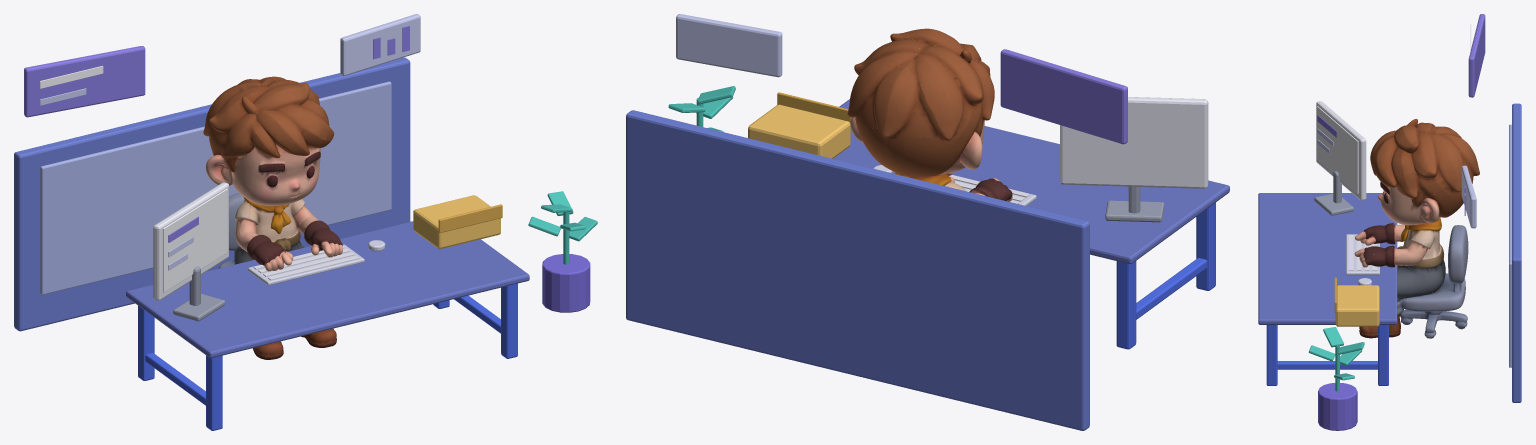
Rendered from desk-scene.glb.
3 renders of one model, left to right at view 1: azimuth 30°, elevation 25°; view 2: azimuth 150°, elevation 25°; view 3: azimuth 270°, elevation 25°, orthographic. The views are drawn at different scales.
Parts seen in each view (by area): view 1: panel_in, desk_top, toy_desk, panel, card_a, mon_screen, card_b, tray, pot, mon_body, desk_leg_-1_-1, desk_leg_1_-1 (+7 smaller); view 2: panel, toy_desk, desk_top, mon_body, card_a, card_b, tray, desk_leg_-1_1, desk_leg_-1_-1, desk_rail_-1, mon_base, tray_lip; view 3: toy_desk, desk_top, panel, mon_screen, tray, pot, mon_body, card_a, desk_rail_1, panel_in, desk_leg_1_-1, card_b (+4 smaller).
Part boxes in pixels (left/top/right/bottom): panel_in: left=40, top=81, right=391, bottom=294; desk_top: left=126, top=221, right=529, bottom=358; toy_desk: left=203, top=76, right=342, bottom=359; panel: left=14, top=57, right=410, bottom=331; card_a: left=24, top=46, right=145, bottom=117; mon_screen: left=163, top=188, right=227, bottom=292; card_b: left=340, top=14, right=420, bottom=75; tray: left=413, top=195, right=500, bottom=248; pot: left=542, top=254, right=590, bottom=312; mon_body: left=153, top=182, right=228, bottom=300; desk_leg_-1_-1: left=206, top=355, right=222, bottom=430; desk_leg_1_-1: left=501, top=283, right=517, bottom=358; panel: left=626, top=110, right=1089, bottom=430; toy_desk: left=847, top=28, right=1012, bottom=201; desk_top: left=833, top=99, right=1229, bottom=264; mon_body: left=1060, top=97, right=1208, bottom=188; card_a: left=1000, top=49, right=1127, bottom=144; card_b: left=676, top=14, right=782, bottom=77; tray: left=748, top=104, right=850, bottom=158; desk_leg_-1_1: left=1116, top=261, right=1136, bottom=349; desk_leg_-1_-1: left=1196, top=202, right=1215, bottom=290; desk_rail_-1: left=1136, top=258, right=1207, bottom=319; mon_base: left=1105, top=200, right=1164, bottom=222; tray_lip: left=777, top=92, right=851, bottom=122; toy_desk: left=1354, top=119, right=1479, bottom=338; desk_top: left=1258, top=193, right=1397, bottom=324; panel: left=1512, top=103, right=1521, bottom=402; mon_screen: left=1317, top=106, right=1358, bottom=193; tray: left=1335, top=285, right=1379, bottom=326; pot: left=1318, top=383, right=1357, bottom=430; mon_body: left=1316, top=101, right=1366, bottom=200; card_a: left=1468, top=14, right=1485, bottom=97; desk_rail_1: left=1277, top=361, right=1377, bottom=369; panel_in: left=1509, top=124, right=1511, bottom=367; desk_leg_1_-1: left=1266, top=325, right=1277, bottom=385; card_b: left=1461, top=165, right=1476, bottom=228.
Size of the model in its own units: 2.31 by 1.27 by 1.32.
Materials: 16 (1 with a texture image).
